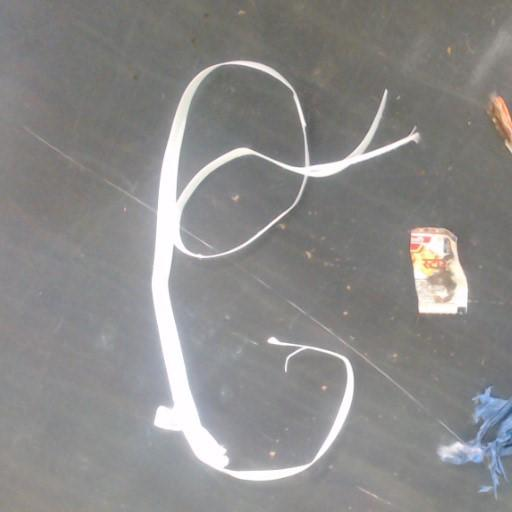cloth: (439, 386, 511, 497)
packet: (410, 228, 467, 314), (487, 94, 511, 153)
thread: (151, 63, 418, 480)
